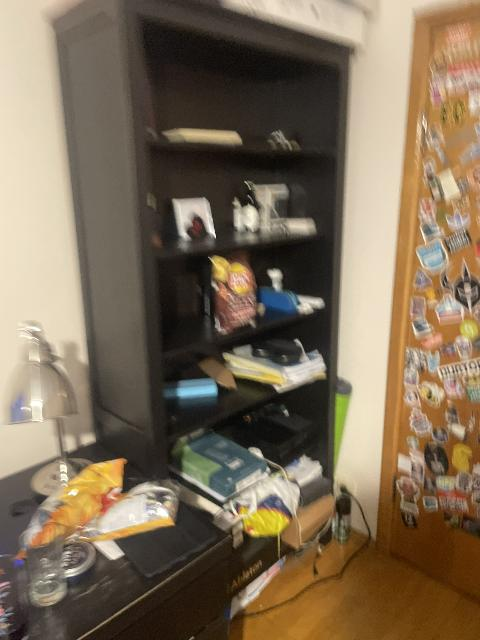Chio Cascaval 125g: (18, 457, 127, 552)
Chio Hula Hoops Cheese 70g: (75, 479, 177, 545)
Lays Beef Grilled Ribs 125g: (209, 254, 260, 334)
